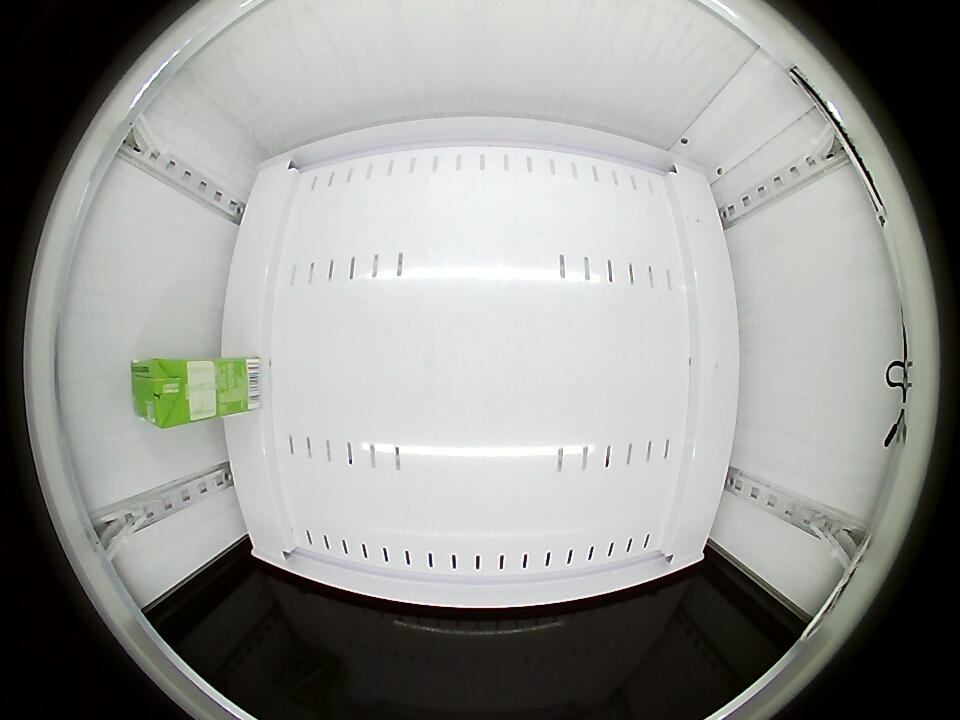mengniuzaocan: (132, 359, 194, 428)
